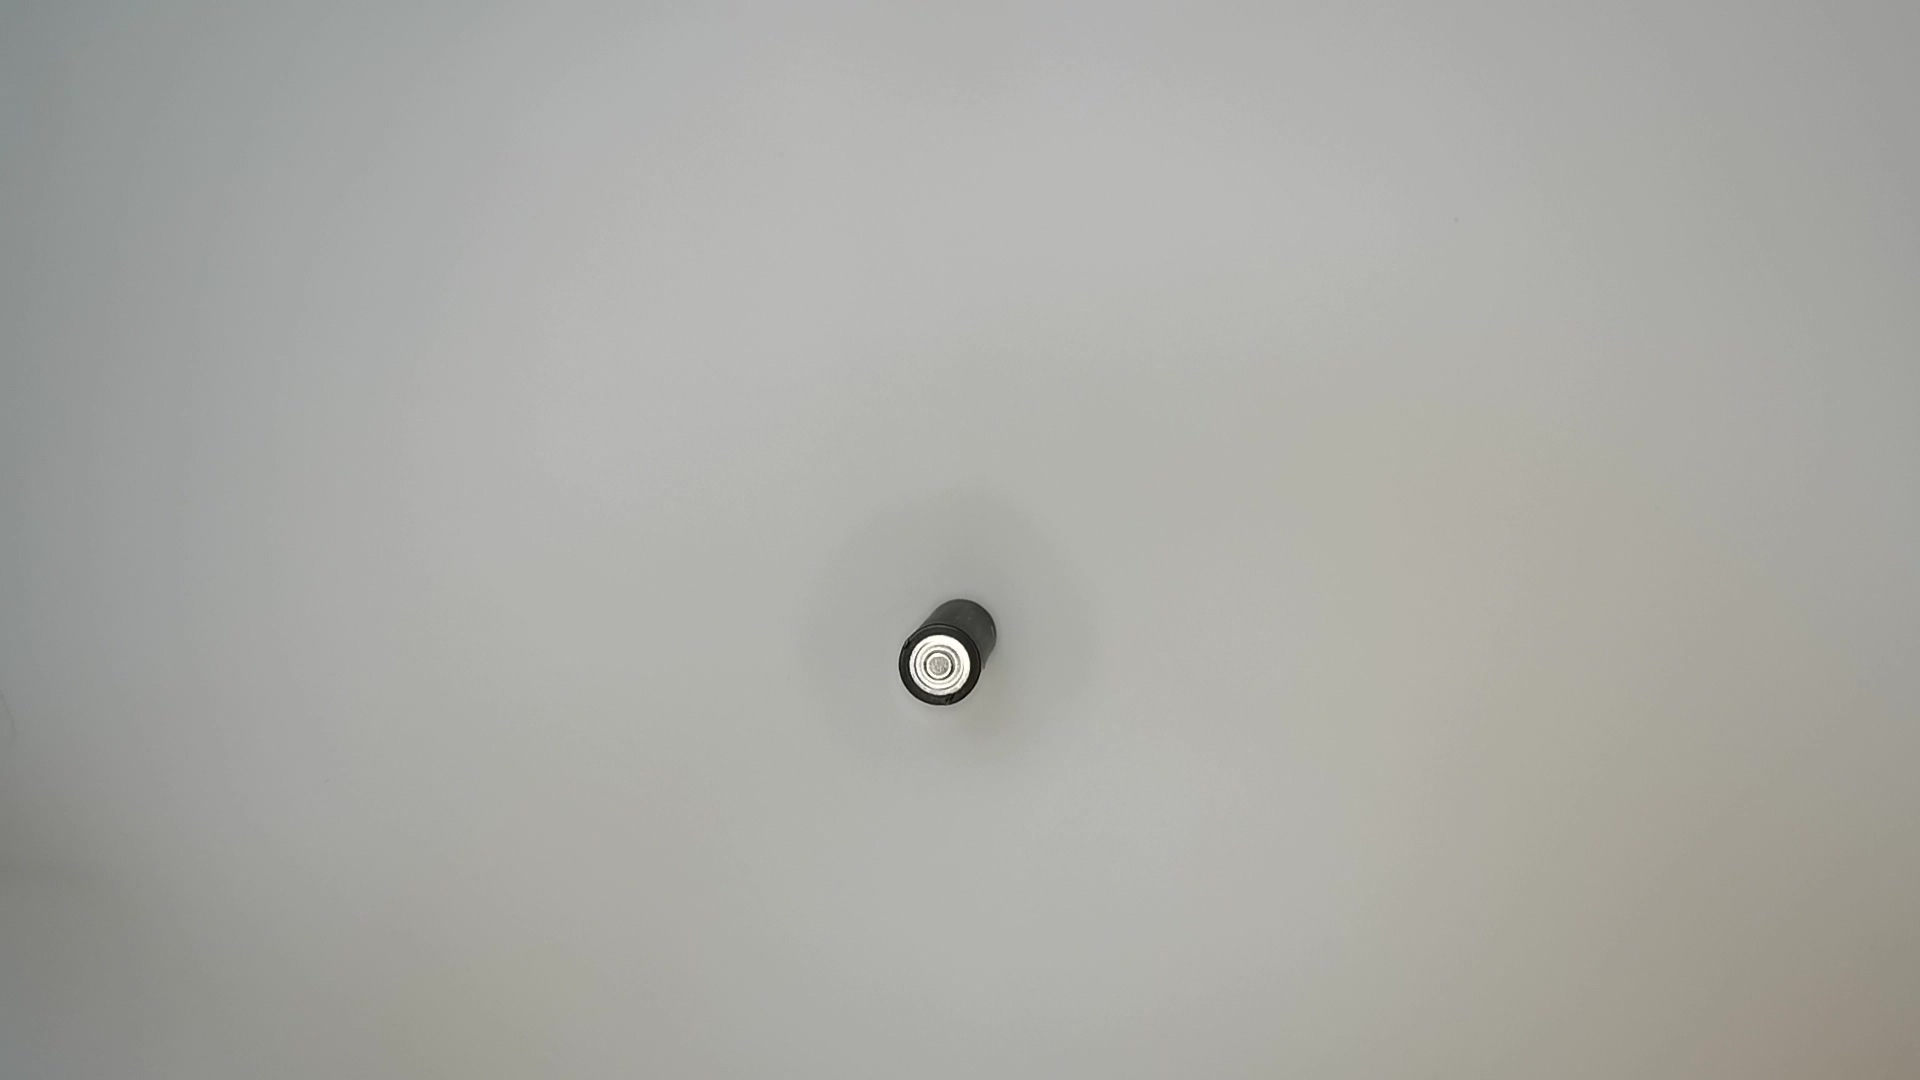battery: (897, 591, 1010, 711)
